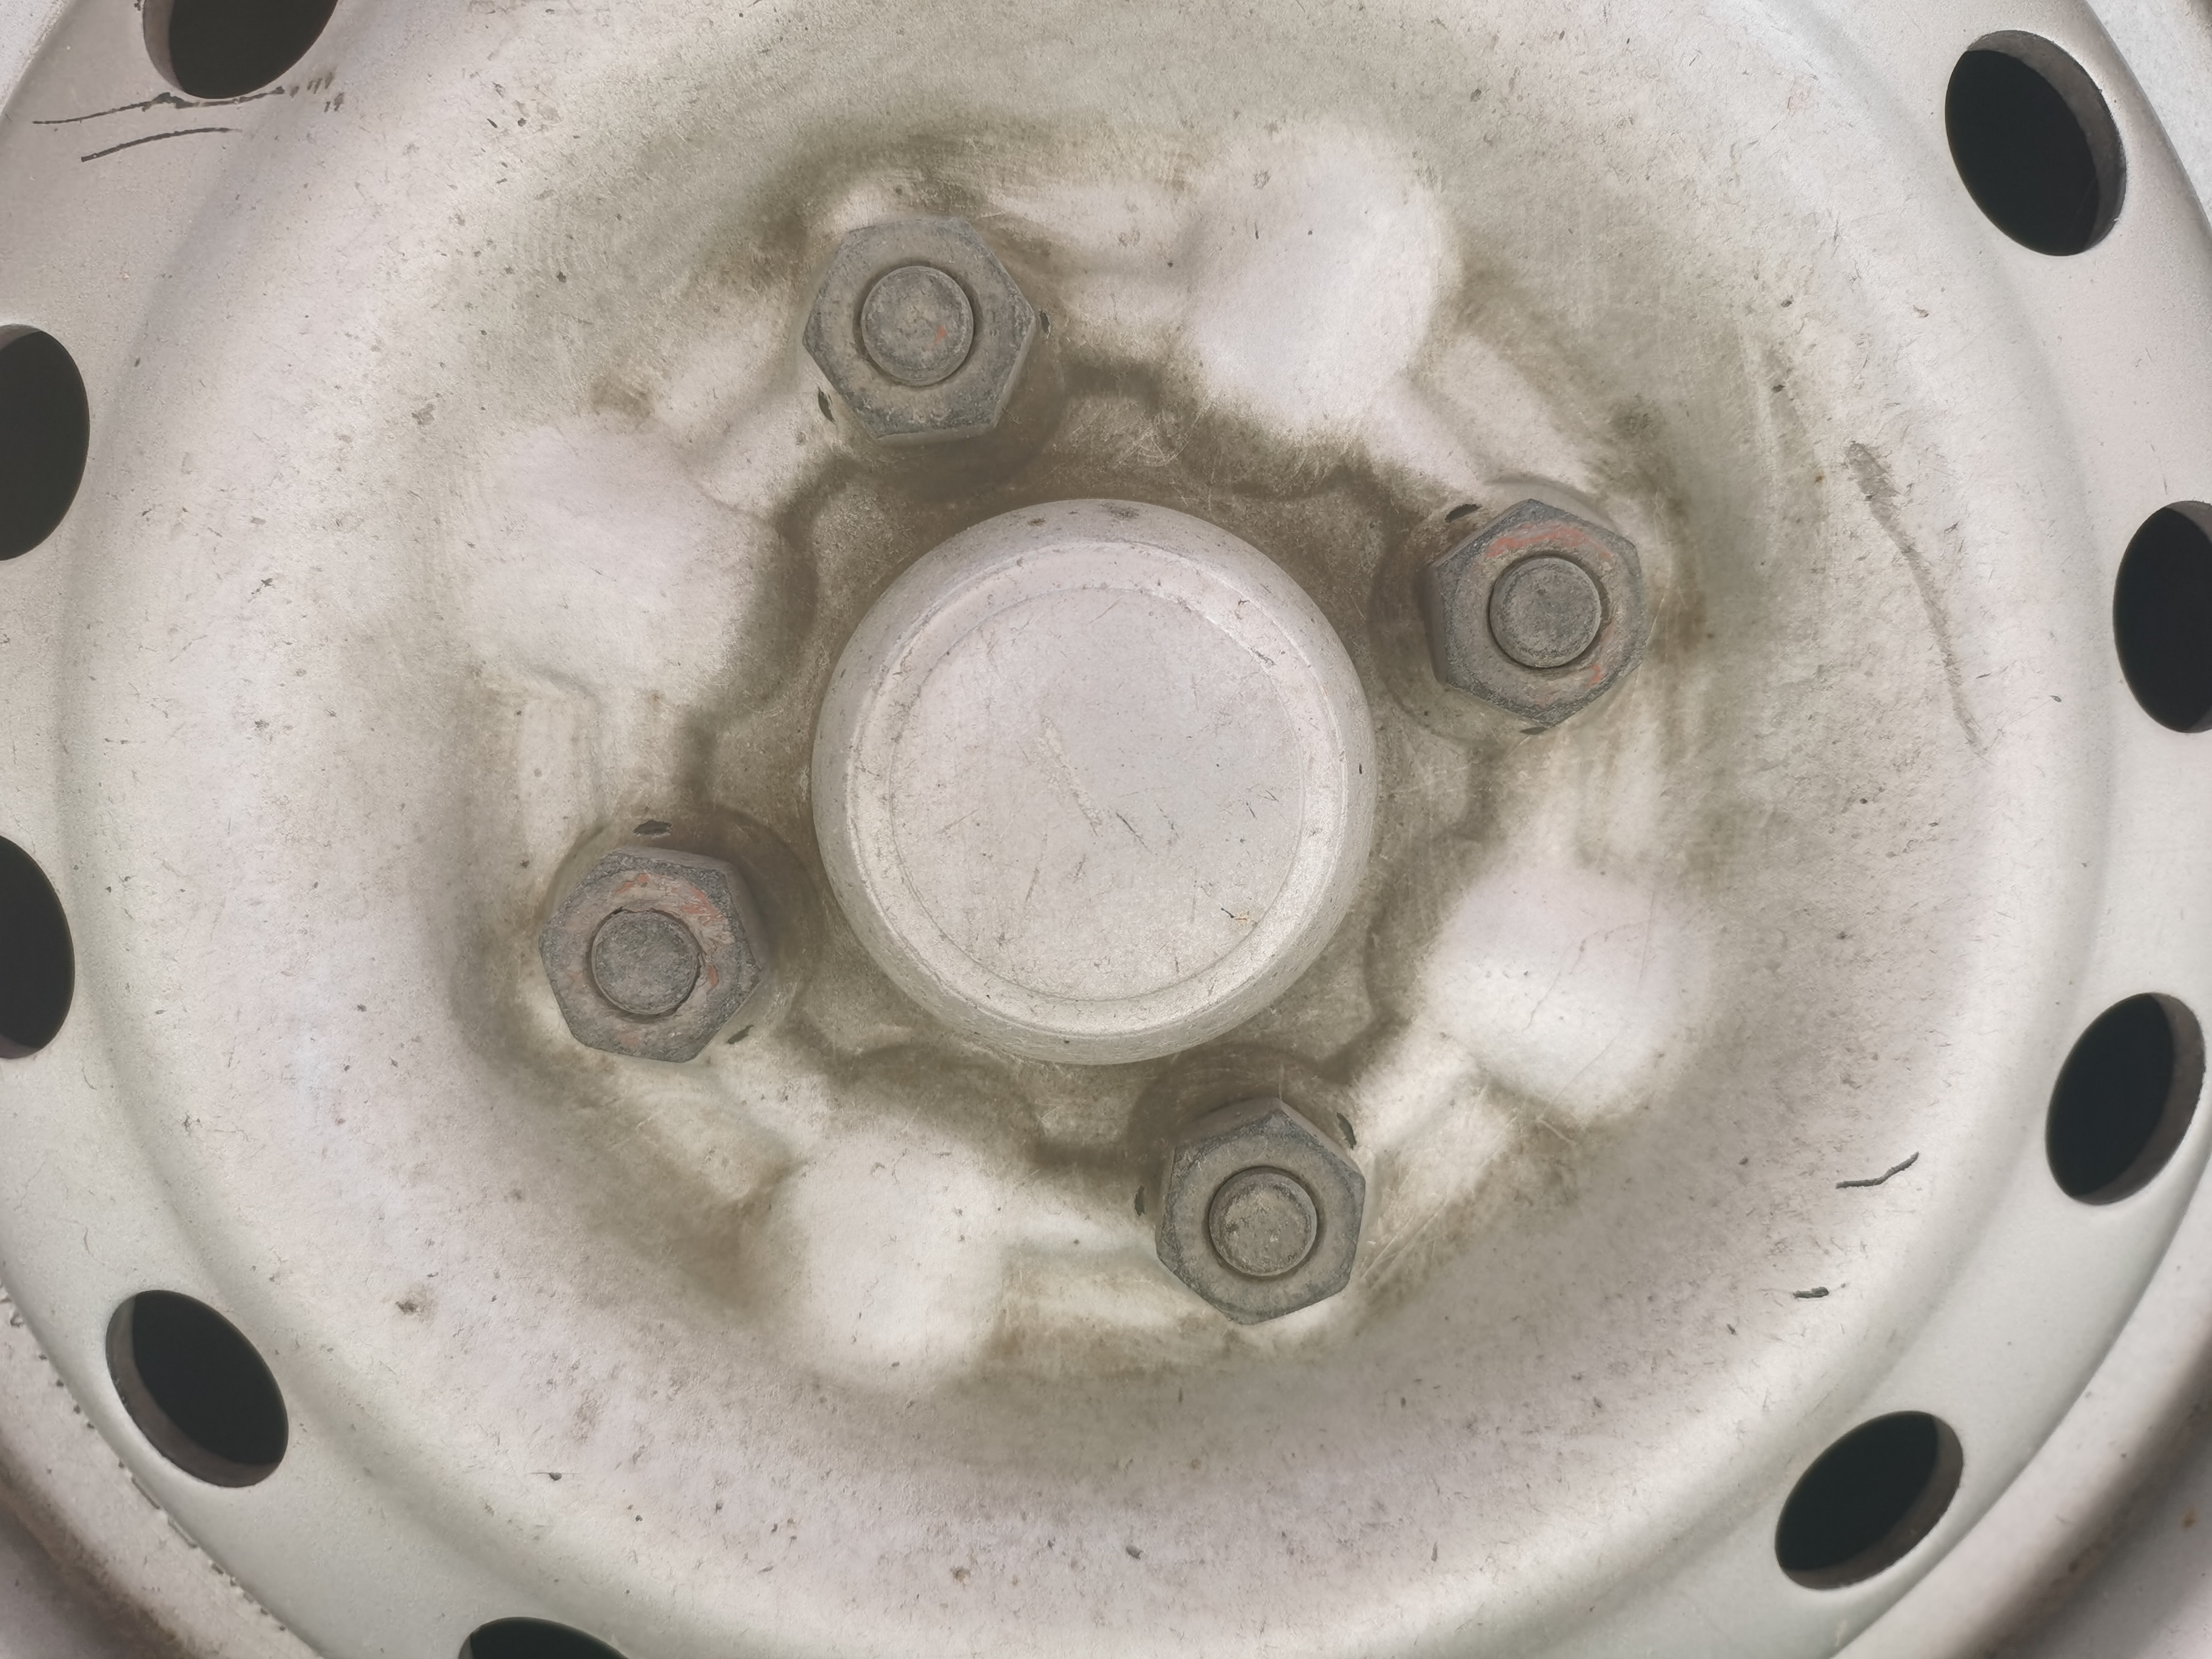bolt_b: (799, 209, 1043, 455), (1409, 493, 1649, 742), (529, 843, 773, 1072), (1150, 1094, 1369, 1331)
